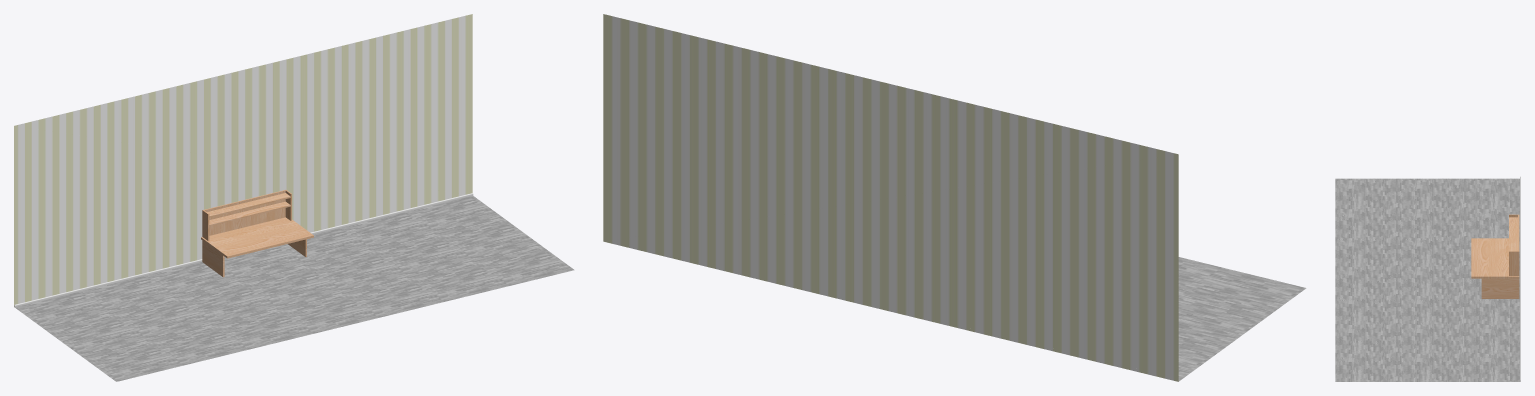
Rendered from table_final.gltf.
3 views of the same model, side by side, from view 1: azimuth 30°, elevation 25°; view 2: azimuth 150°, elevation 25°; view 3: azimuth 270°, elevation 25° (orthographic). The views are drawn at different scales.
Visible parts, largest first — view 1: Wall2, Flor, Table_1, Sides and back, Wall, Table legs, Board_2, Board_1; view 2: Wall2, Flor; view 3: Flor, Table_1, Table legs, Sides and back, Board_2, Wall.
Boxes of the visible parts, left/top/right/bottom form: Wall2: left=14, top=14, right=472, bottom=306; Flor: left=15, top=196, right=574, bottom=381; Table_1: left=201, top=217, right=313, bottom=258; Sides and back: left=202, top=190, right=291, bottom=240; Wall: left=14, top=193, right=473, bottom=307; Table legs: left=202, top=239, right=306, bottom=277; Board_2: left=207, top=193, right=290, bottom=217; Board_1: left=209, top=201, right=290, bottom=226; Wall2: left=603, top=14, right=1178, bottom=381; Flor: left=1178, top=257, right=1306, bottom=381; Flor: left=1335, top=178, right=1519, bottom=381; Table_1: left=1471, top=238, right=1519, bottom=278; Table legs: left=1481, top=278, right=1519, bottom=298; Sides and back: left=1509, top=214, right=1519, bottom=275; Board_2: left=1509, top=217, right=1517, bottom=251; Wall: left=1520, top=176, right=1520, bottom=381.
Size of the model in its own units: 10.59 by 4 by 4.09.
Materials: 8 (7 with a texture image).
